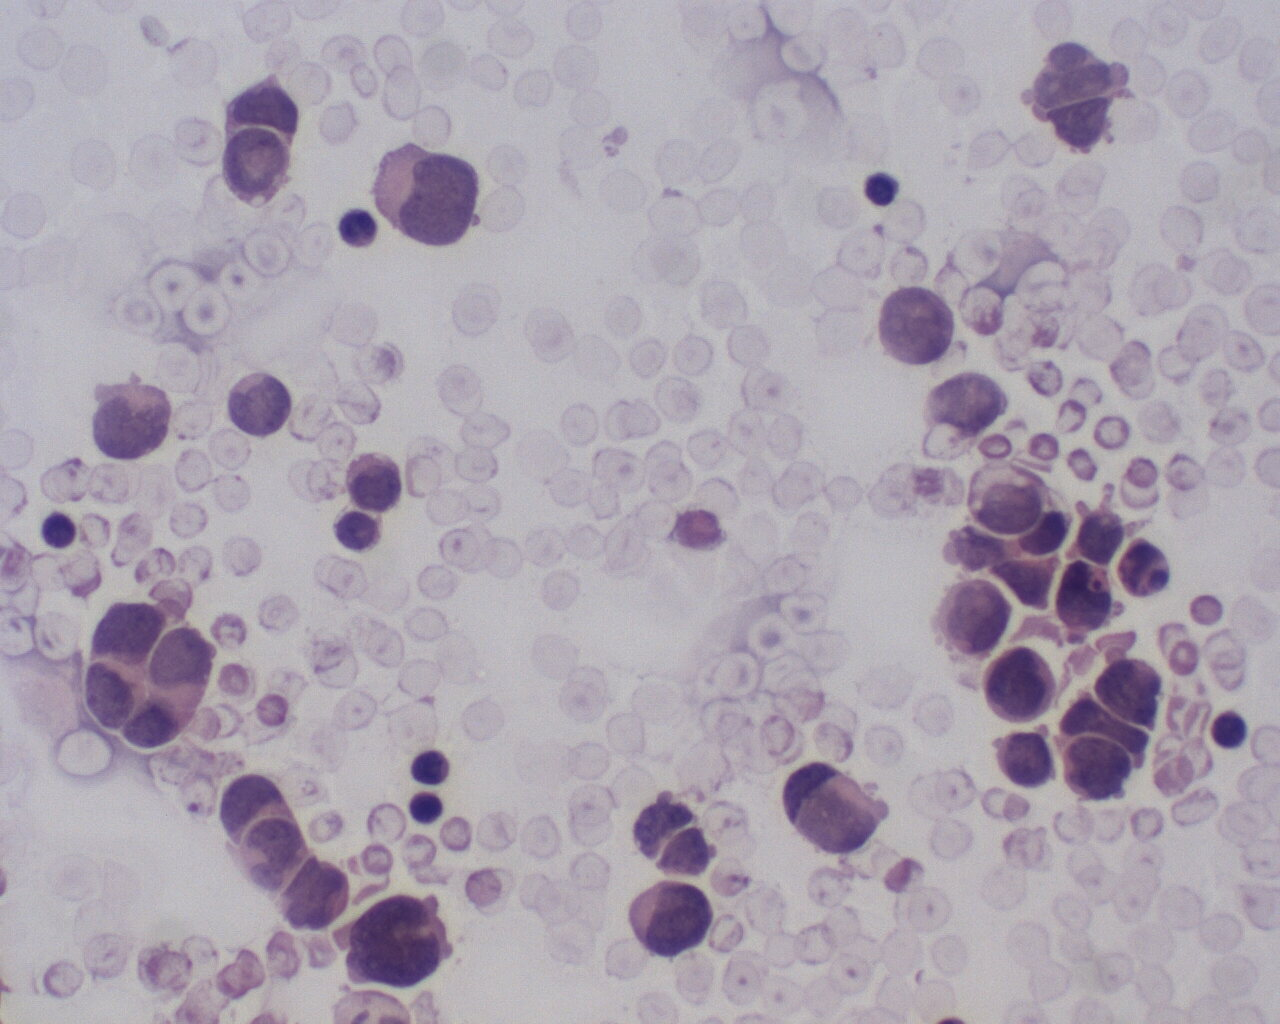ab: (376, 132, 496, 259), (343, 890, 458, 990), (865, 273, 965, 370), (630, 881, 721, 963), (935, 573, 1014, 658), (980, 642, 1060, 723), (1091, 651, 1165, 728), (87, 595, 168, 660), (82, 655, 148, 734), (280, 857, 348, 933), (1057, 734, 1130, 805), (240, 815, 308, 890), (225, 368, 295, 439), (1054, 558, 1117, 635), (346, 446, 408, 517), (992, 727, 1057, 787), (123, 692, 183, 751)
lymph: (39, 508, 84, 552), (408, 744, 453, 787), (860, 164, 901, 210), (408, 790, 448, 827)
